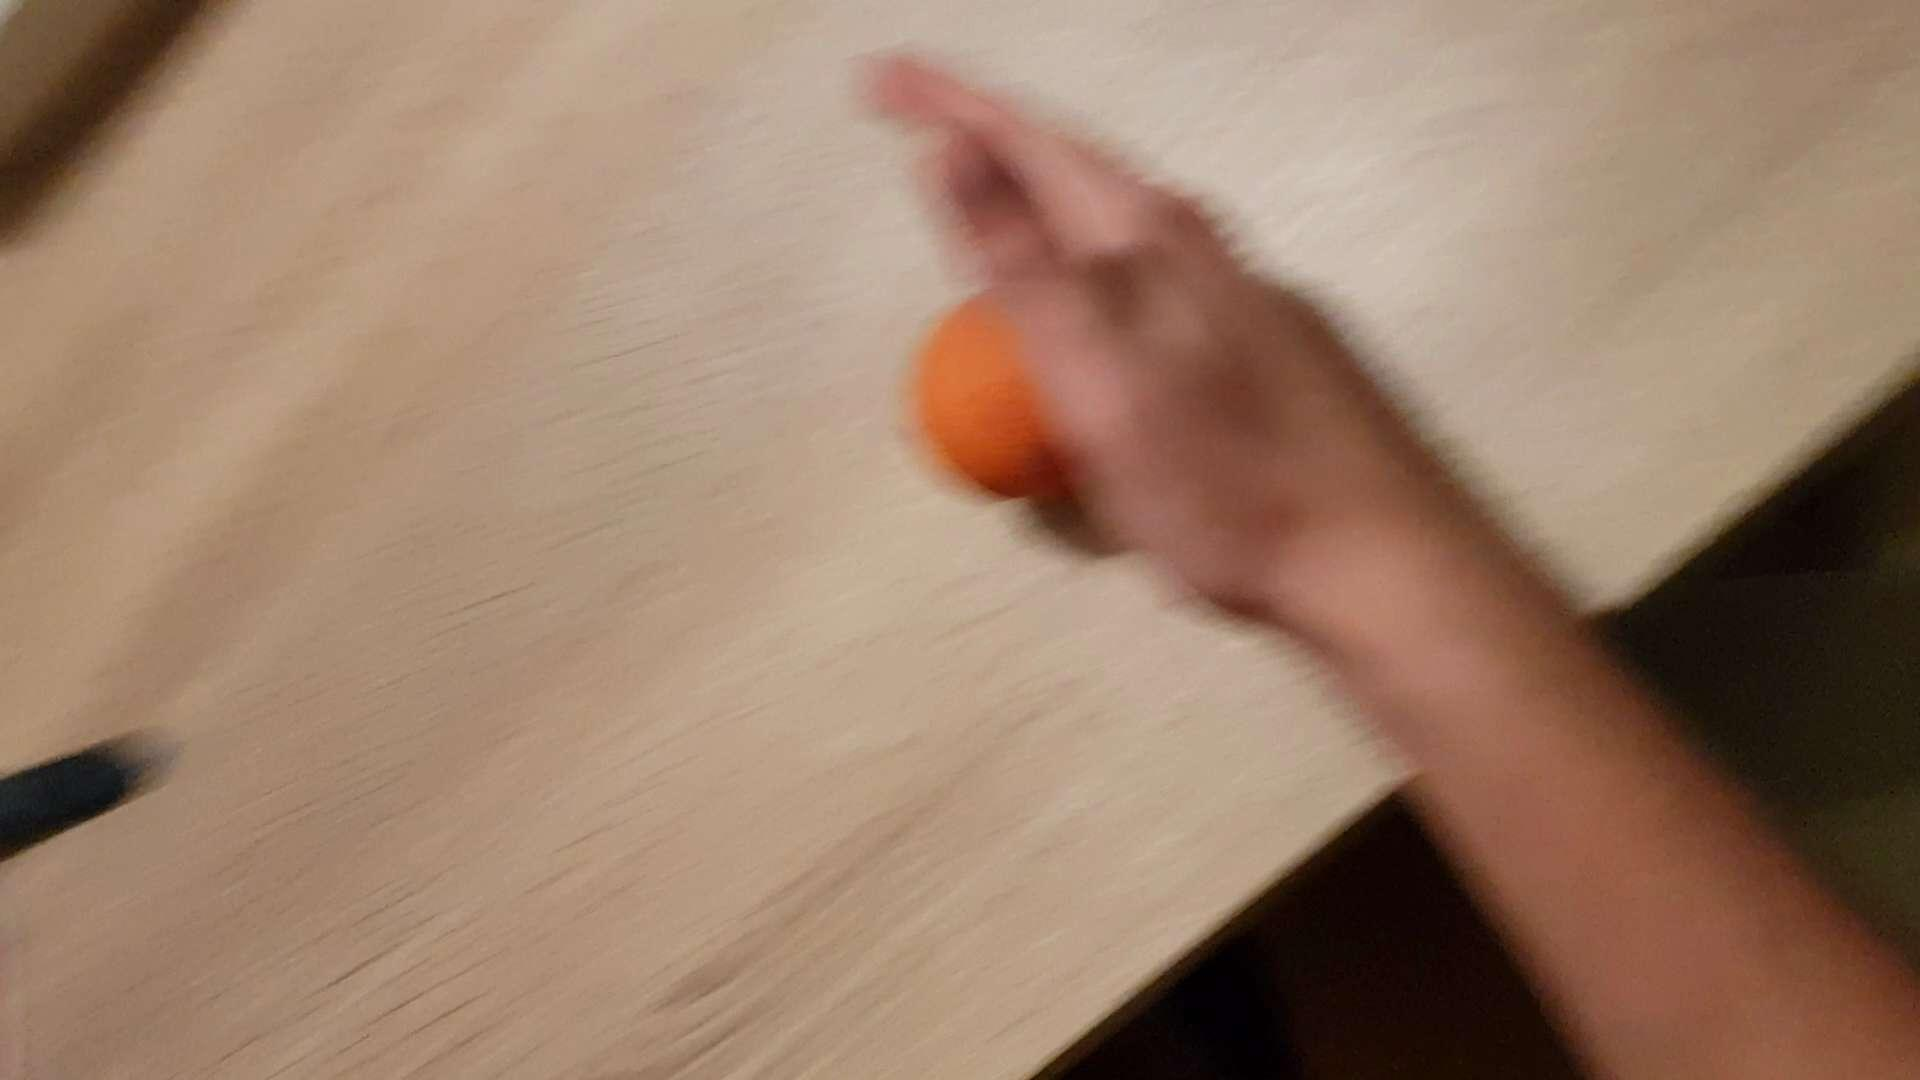Sphere: (899, 282, 1106, 496)
